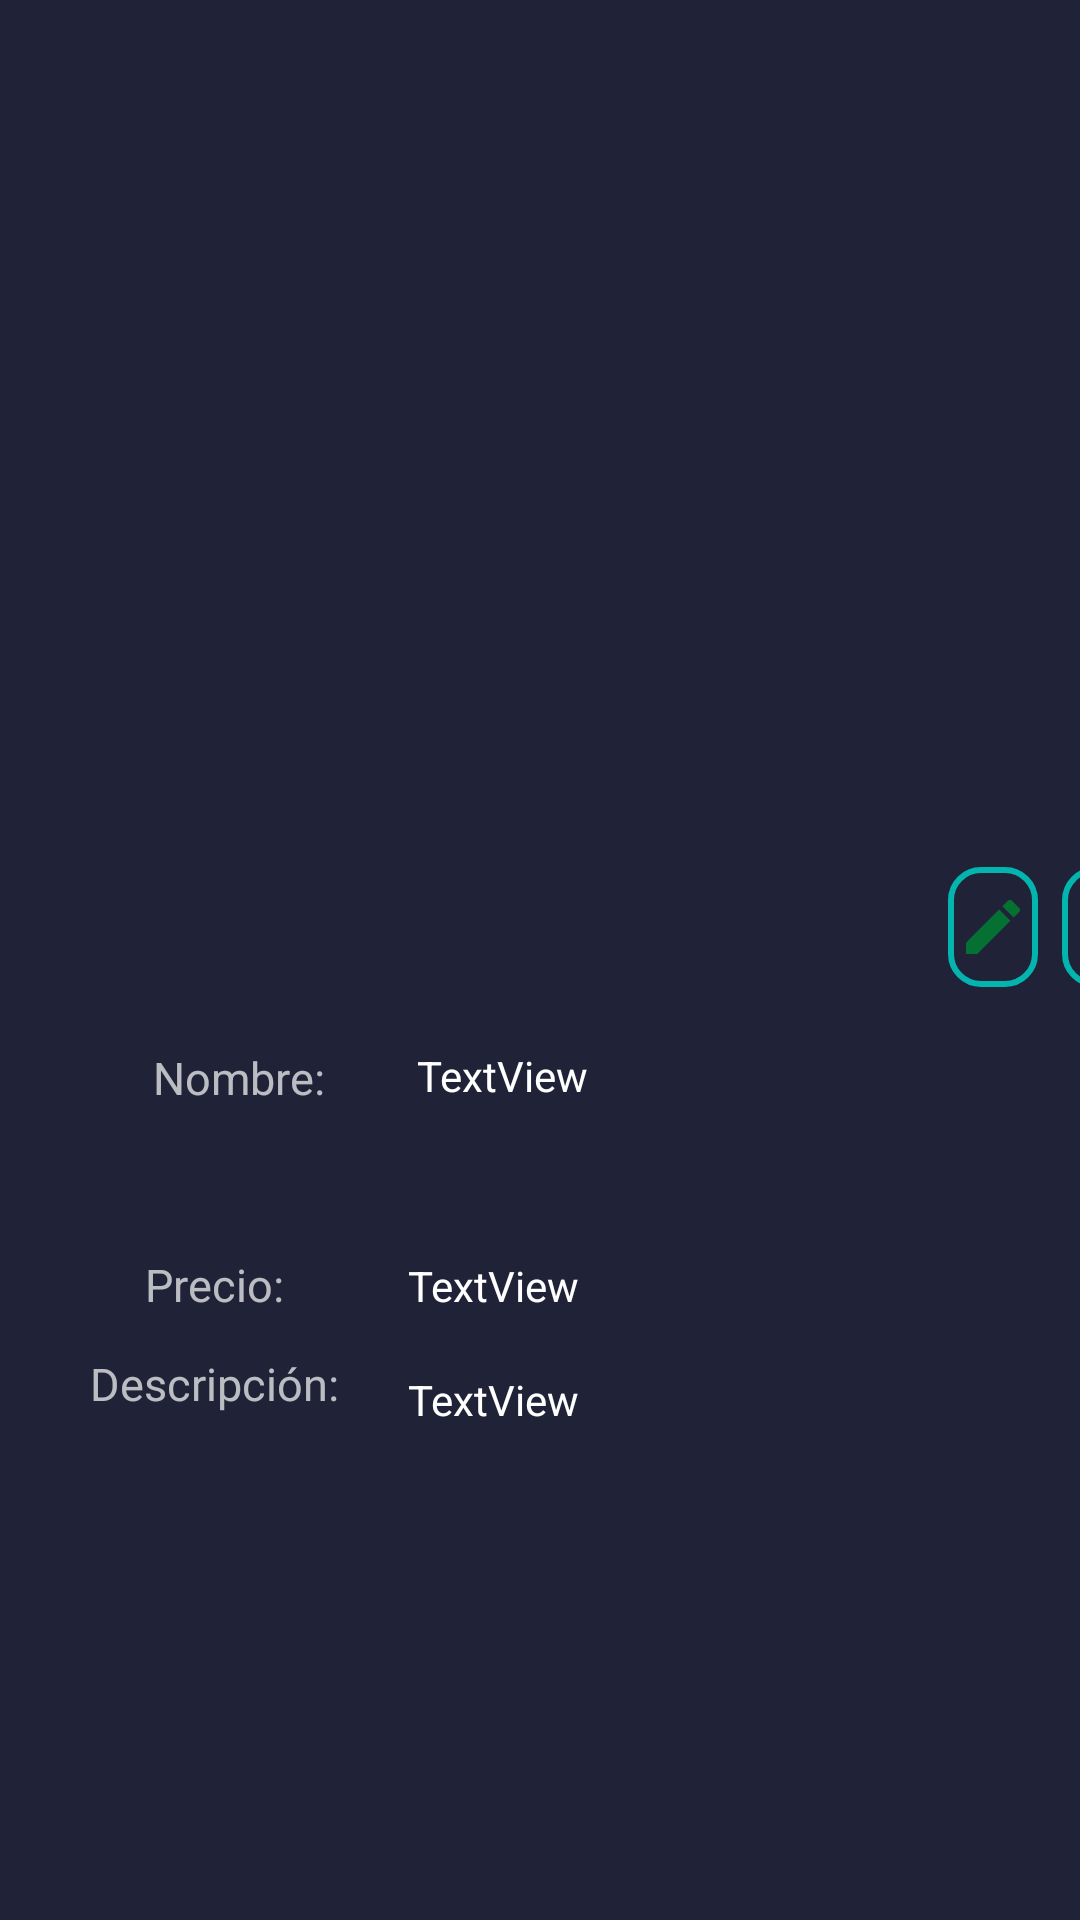

Icons on this 1080 × 1920 Android screen, each with the point to tap as (x,y):
edit: (993,927)
